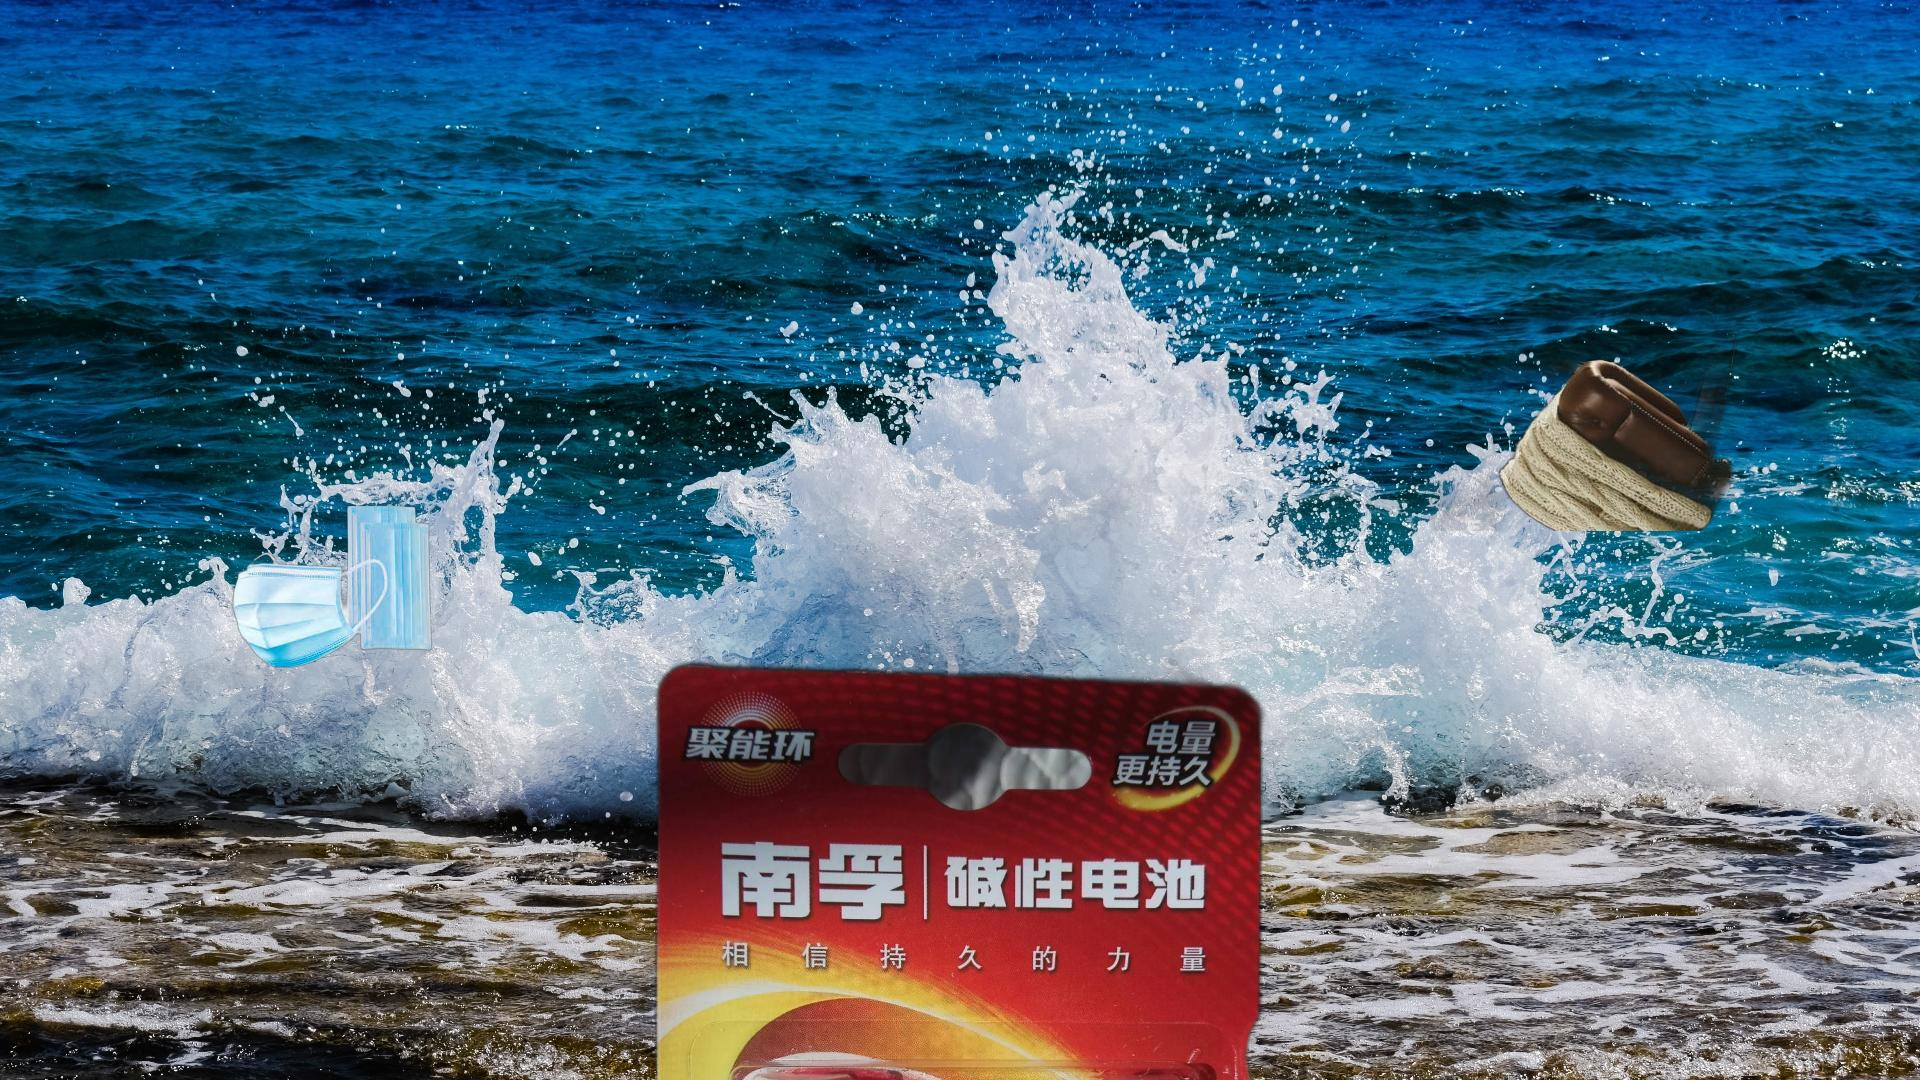battery: (650, 576, 1271, 1080)
paper: (1324, 251, 1817, 531)
paper-bag: (563, 1075, 819, 1080)
penholder: (1913, 666, 1920, 1080)
trash: (229, 502, 435, 671)
